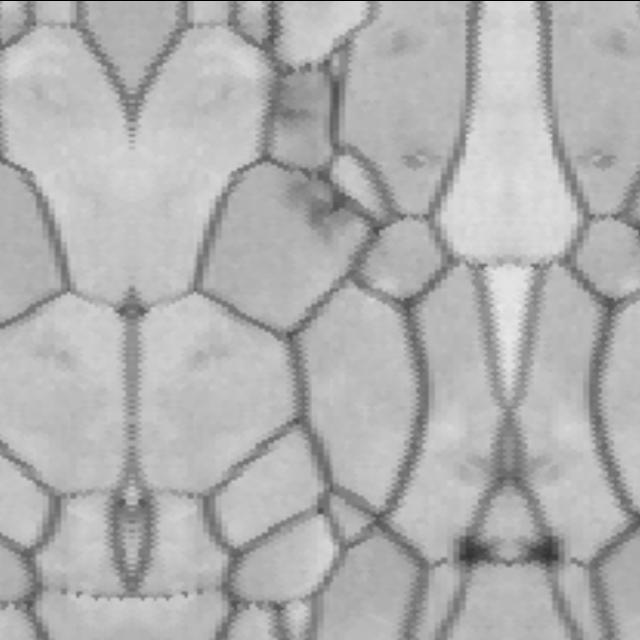good_void: (276, 163, 362, 251), (445, 521, 508, 581), (508, 521, 571, 581), (264, 72, 318, 130), (569, 128, 619, 177), (398, 128, 447, 177)
